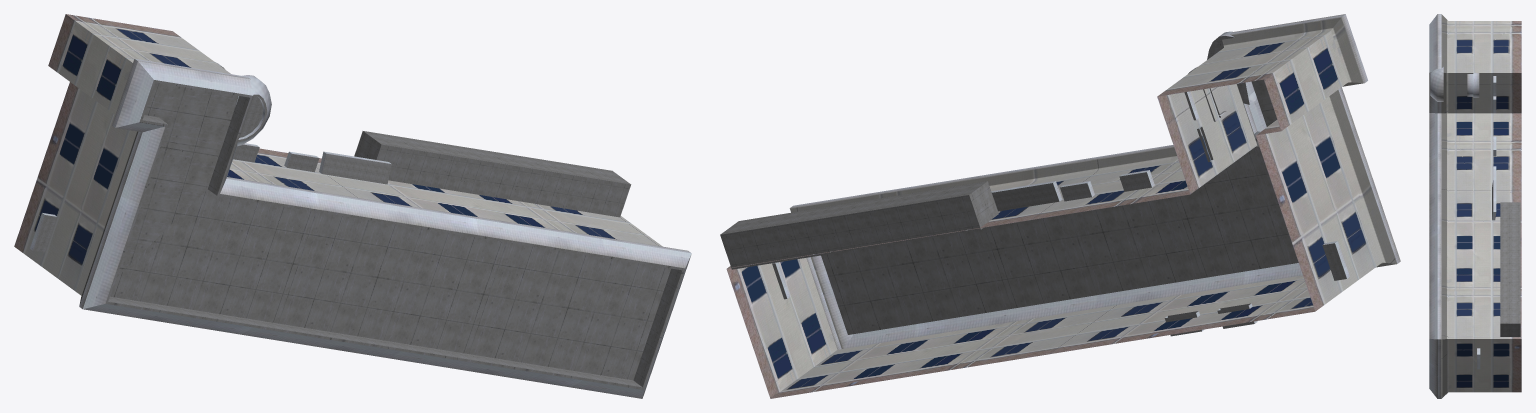
File: building_p5_01.fbx
3 renders of one model, left to right at view 1: azimuth 30°, elevation 25°; view 2: azimuth 150°, elevation 25°; view 3: azimuth 270°, elevation 25°, orthographic. The views are drawn at different scales.
Parts seen in each view (by area): view 1: Building_P5_01; view 2: Building_P5_01; view 3: Building_P5_01.
Boxes of the visible parts, <box> form: Building_P5_01: <box>14,14,691,398</box>; Building_P5_01: <box>720,14,1400,398</box>; Building_P5_01: <box>1429,14,1521,398</box>.
Size of the model in its own units: 4670 by 3376 by 1124.
